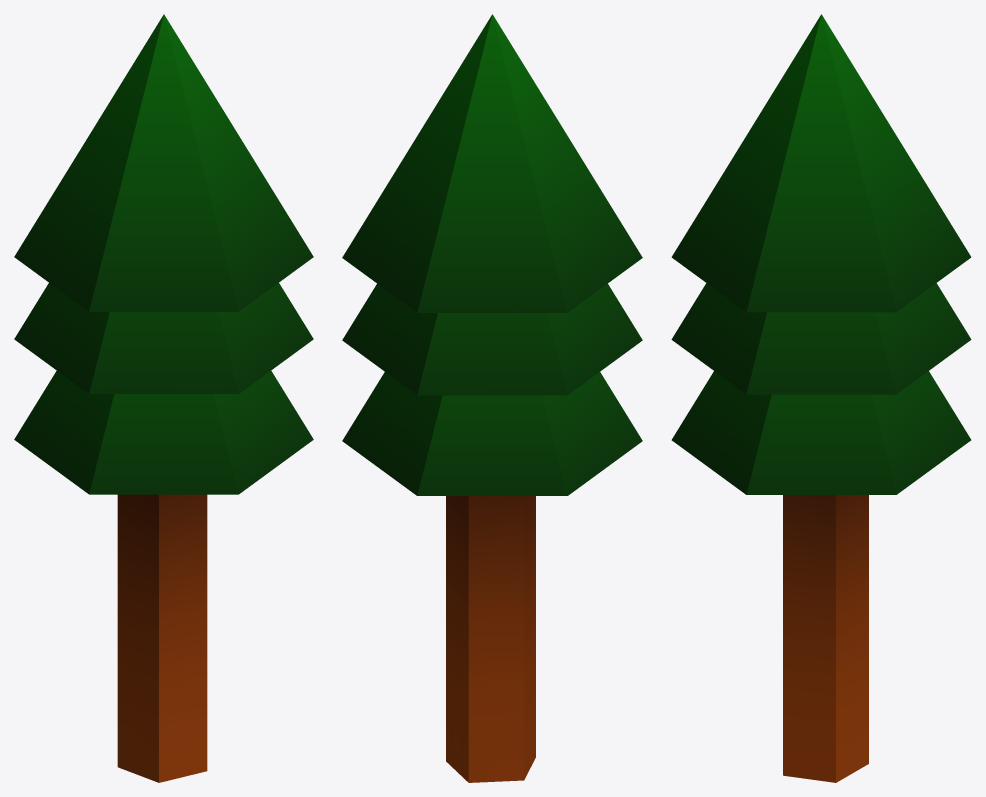
Rendered from ArvoreEscuraAlta.fbx.
3 renders of one model, left to right at view 1: azimuth 30°, elevation 25°; view 2: azimuth 150°, elevation 25°; view 3: azimuth 270°, elevation 25°, orthographic.
Visible parts, largest first — view 1: Cylinder.004; view 2: Cylinder.004; view 3: Cylinder.004.
Boxes of the visible parts, x1,y1,x2,y2 form: Cylinder.004: (14,14,313,782); Cylinder.004: (342,14,642,782); Cylinder.004: (671,14,971,782).
Size of the model in its own units: 197 by 629 by 228.
